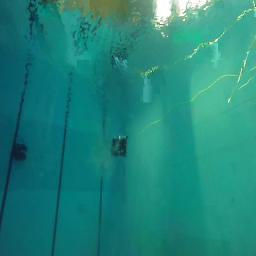Full: (12, 150, 26, 160)
front: (111, 133, 129, 158)
